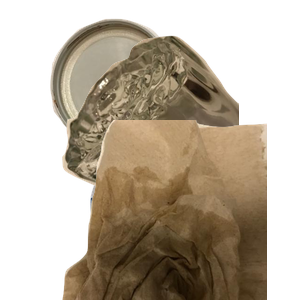glass: (60, 33, 300, 213)
metal: (47, 16, 214, 157)
plastic: (88, 158, 229, 300)
trash: (60, 120, 300, 300)
